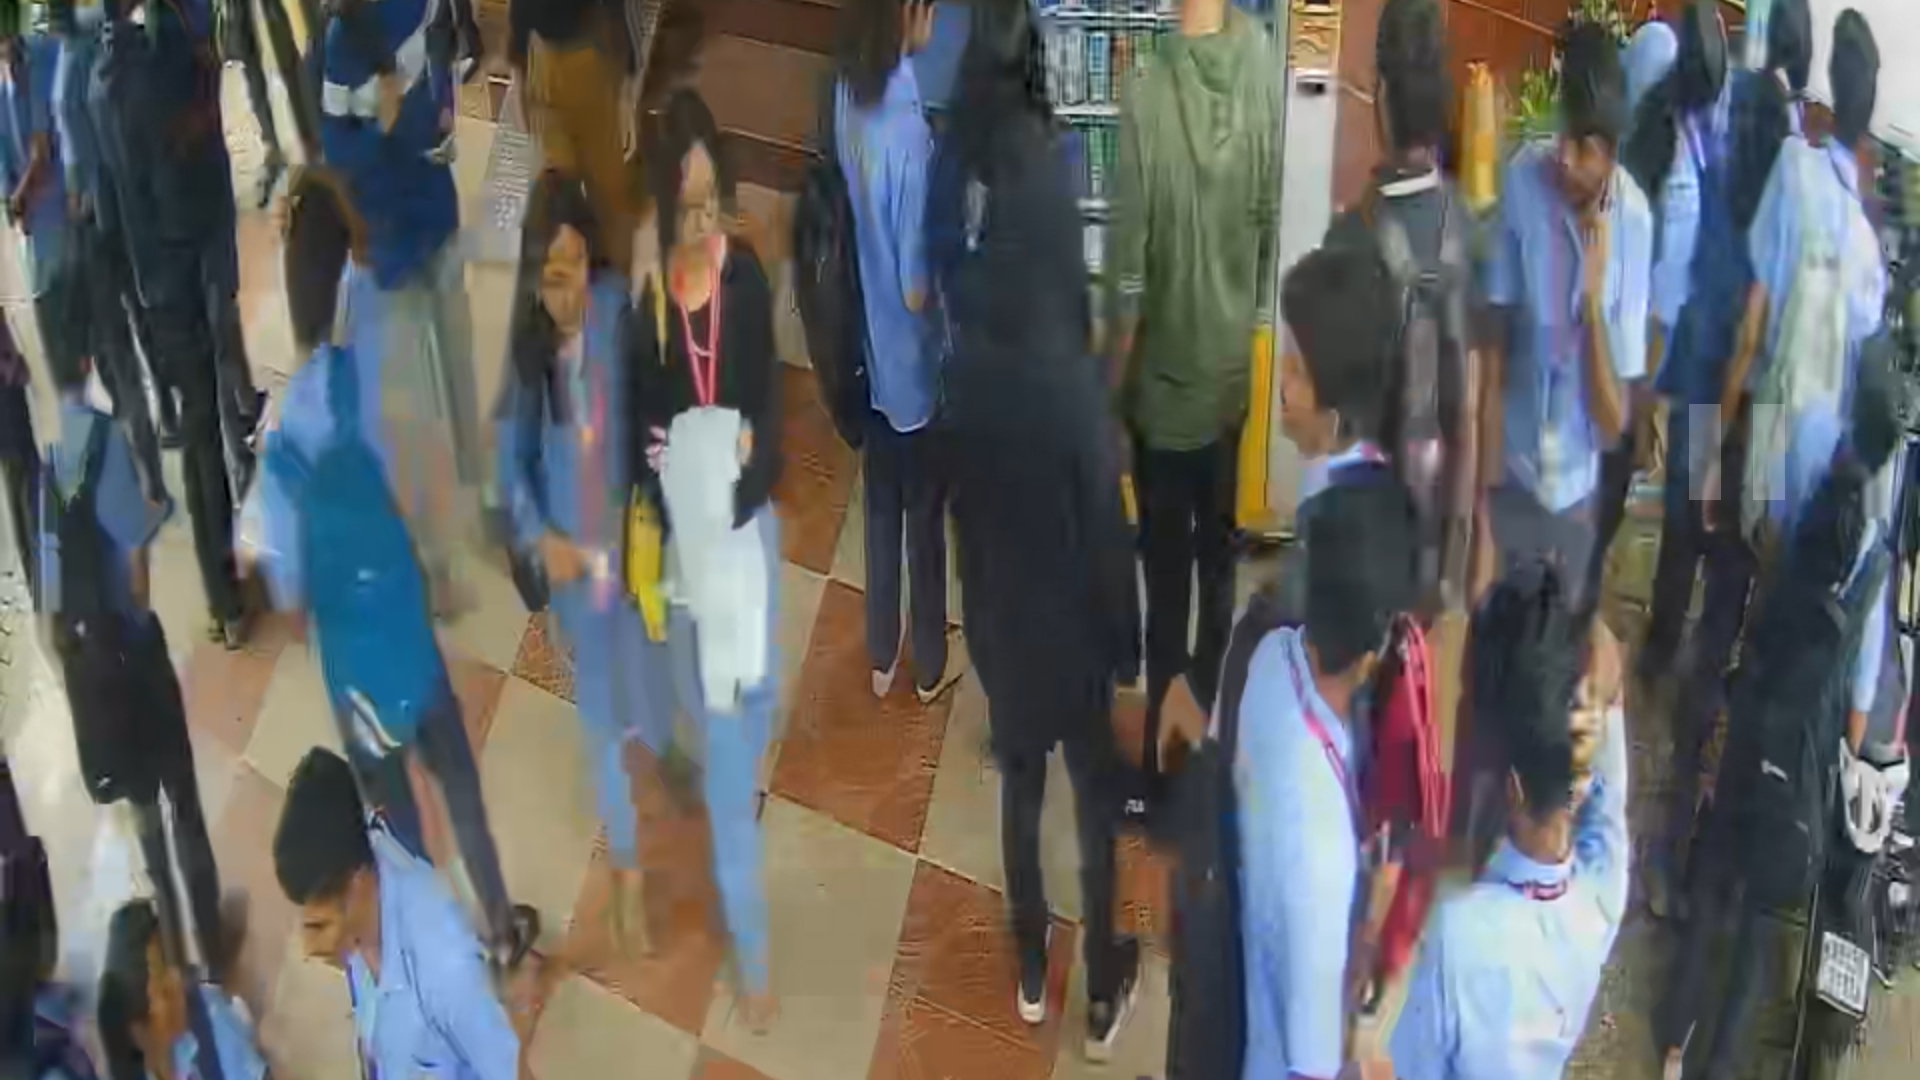not intruder: (481, 167, 688, 945), (655, 94, 816, 998), (1502, 28, 1621, 642)
